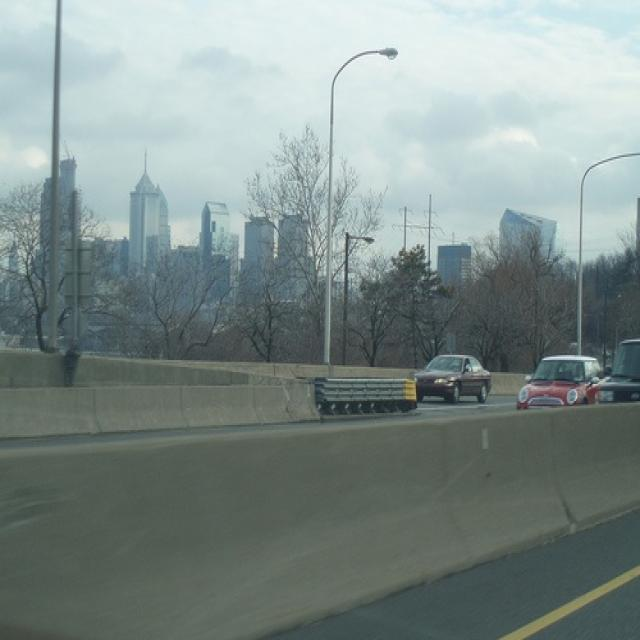car: (515, 352, 604, 409), (414, 352, 492, 404), (595, 334, 639, 404)
